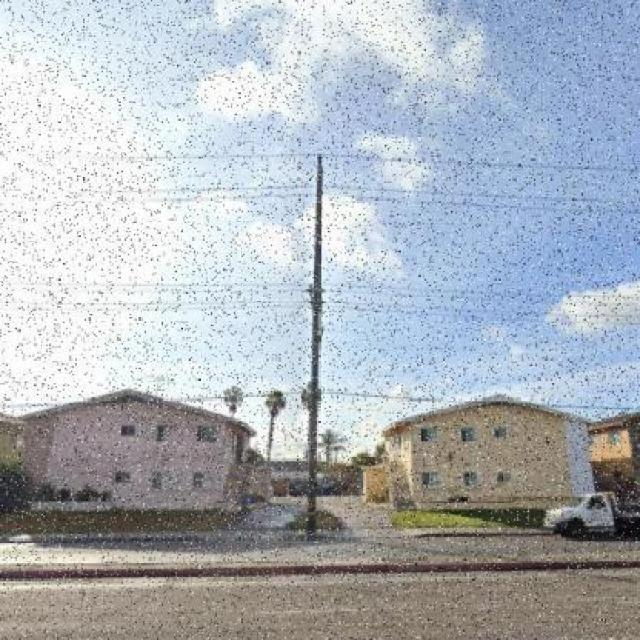pole: (244, 116, 378, 550)
